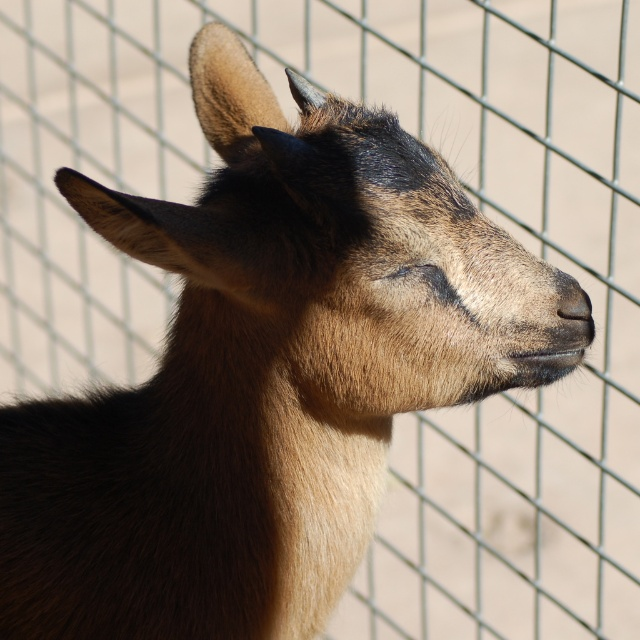Goat: (0, 23, 594, 636)
